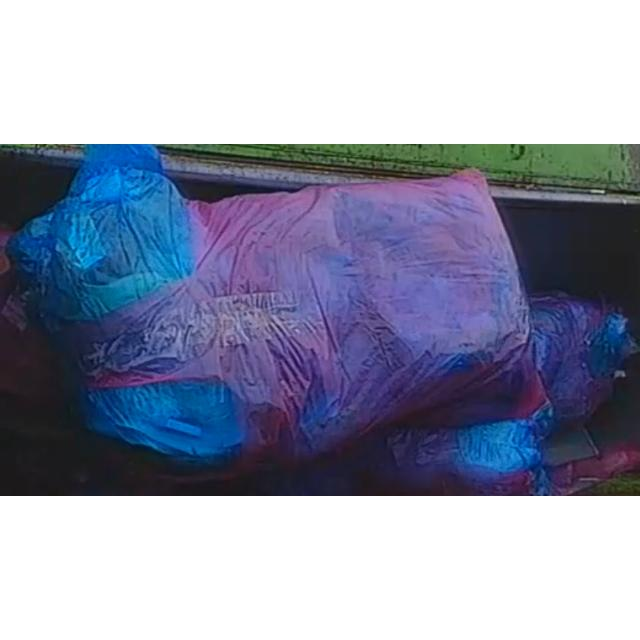other_trashbag: (10, 146, 630, 456)
